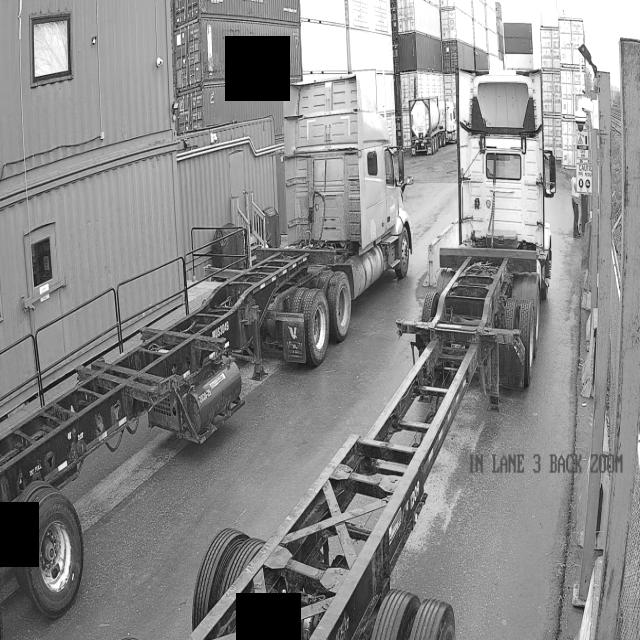truck_without_container: (0, 77, 412, 616), (187, 70, 556, 640)
